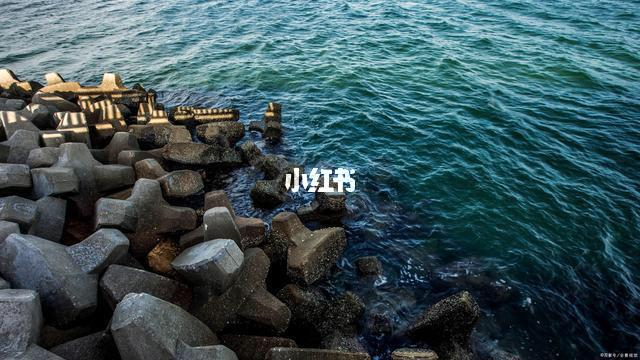sea_river: (210, 12, 640, 331)
